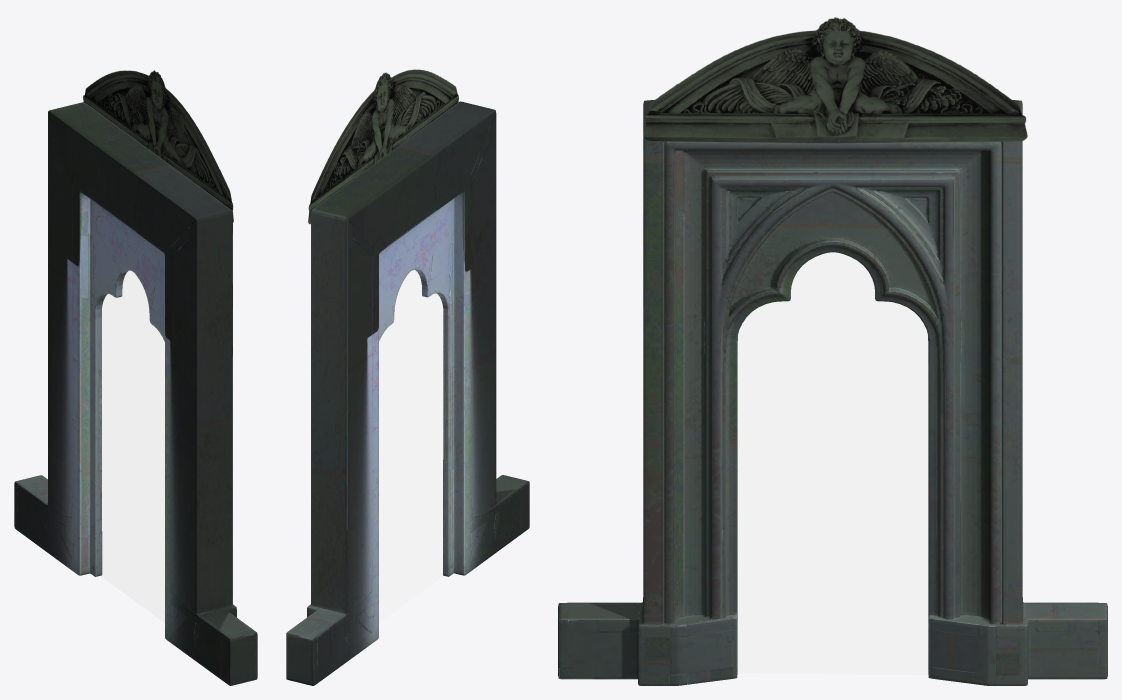
The model's file is portal4.glb.
The picture shows the model from 3 angles, left to right: view 1: azimuth 30°, elevation 25°; view 2: azimuth 150°, elevation 25°; view 3: azimuth 270°, elevation 25°; orthographic projection. The views are drawn at different scales.
Visible parts, largest first — view 1: Arc_01, portalLight, IMG_0345; view 2: Arc_01, portalLight, IMG_0345; view 3: Arc_01, portalLight, IMG_0345.
Part boxes in pixels (left/top/right/bottom): Arc_01: left=14, top=102, right=257, bottom=685; portalLight: left=100, top=270, right=164, bottom=622; IMG_0345: left=83, top=70, right=233, bottom=222; Arc_01: left=286, top=101, right=529, bottom=685; portalLight: left=379, top=270, right=443, bottom=622; IMG_0345: left=308, top=69, right=458, bottom=224; Arc_01: left=558, top=100, right=1107, bottom=685; portalLight: left=737, top=252, right=928, bottom=675; IMG_0345: left=643, top=17, right=1027, bottom=143.
Bounding box in the file's own units: 0.1824 × 2.39 × 1.77.
3 materials, 2 textured.
